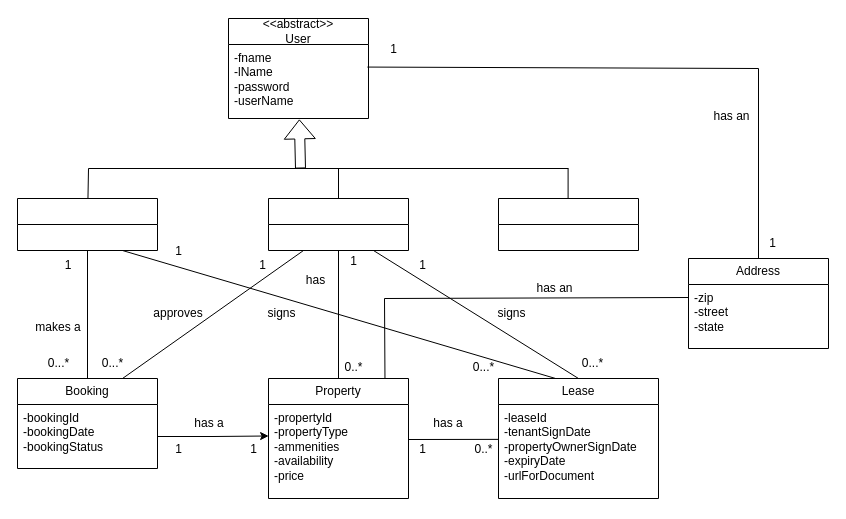
Image size: 846x519. Some labels were removed from this diagram. Each missing label, with the centre of its shape:
"Admin" goes at (x=568, y=224).
"PropertyOwner" goes at (x=338, y=224).
"Tenant" goes at (x=87, y=224).
